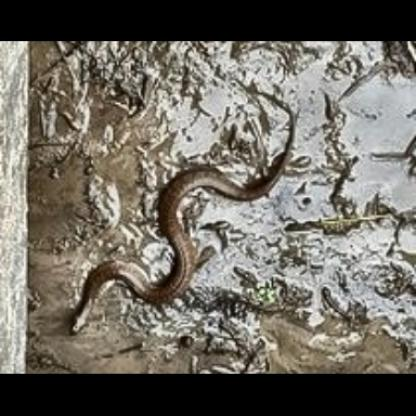Snake: (66, 94, 300, 340)
